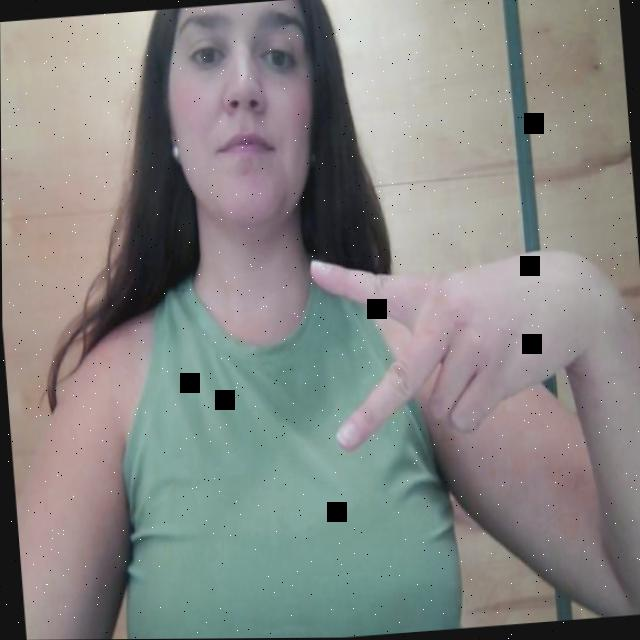Scissors: (261, 183, 631, 527)
